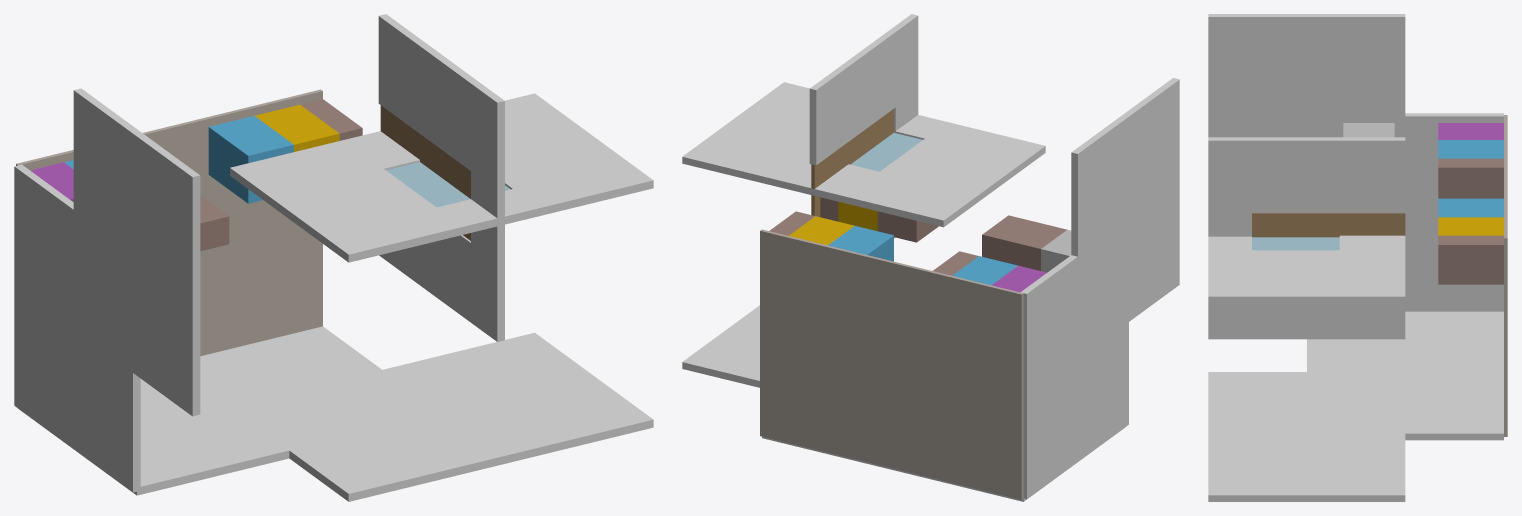
The model's file is kitchen_20251229_140243.glb.
The picture shows the model from 3 angles, left to right: view 1: azimuth 30°, elevation 25°; view 2: azimuth 150°, elevation 25°; view 3: azimuth 270°, elevation 25°; orthographic projection. The views are drawn at different scales.
Parts seen in each view (by area): view 1: world; view 2: world; view 3: world.
Boxes of the visible parts, <box> form: world: <box>14,14,653,501</box>; world: <box>682,14,1179,501</box>; world: <box>1208,14,1507,501</box>.
Bounding box in the file's own units: 605 × 455 × 410.
